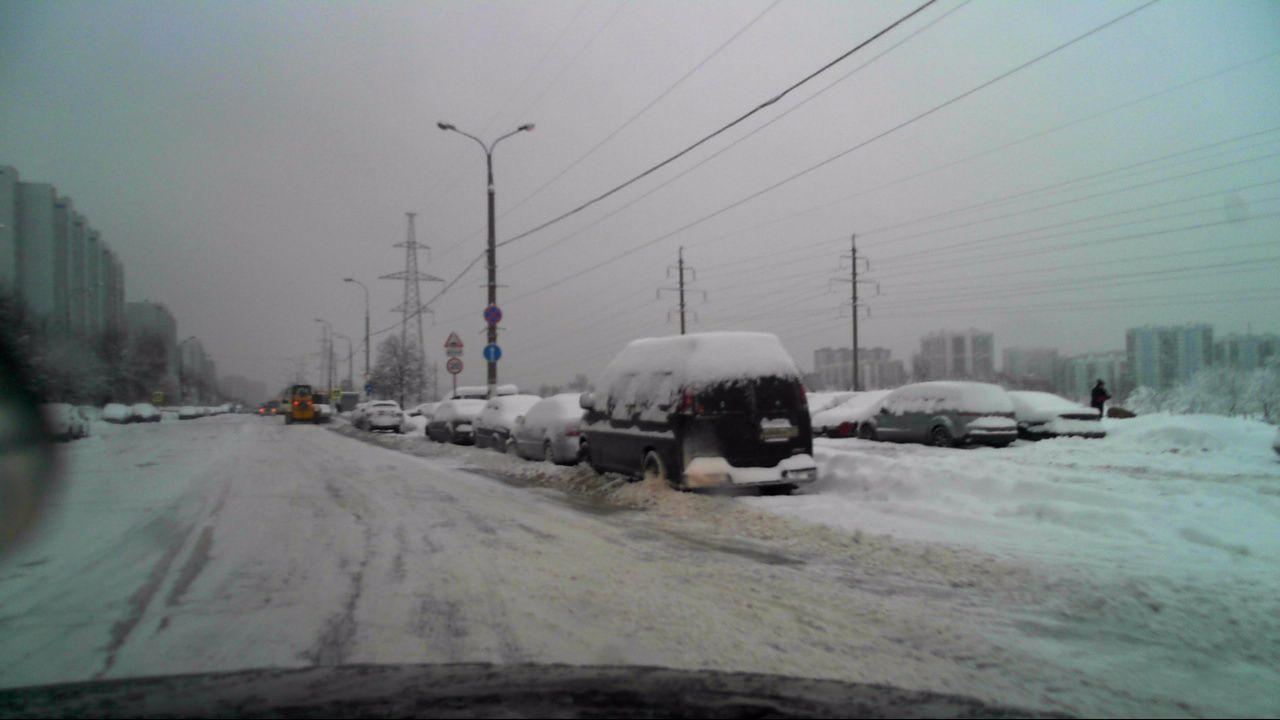road_sign: (482, 343, 502, 362), (483, 305, 503, 324), (443, 331, 465, 348), (446, 358, 463, 375)
